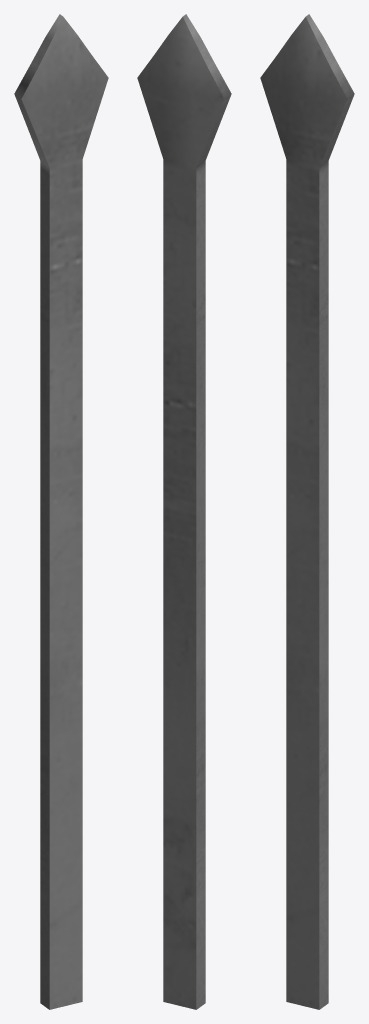
The model's file is fireGrill.fbx.
The picture shows the model from 3 angles, left to right: view 1: azimuth 30°, elevation 25°; view 2: azimuth 150°, elevation 25°; view 3: azimuth 330°, elevation 25°; orthographic projection.
Visible parts, largest first — view 1: pCube6; view 2: pCube6; view 3: pCube6.
Boxes of the visible parts, <box> form: pCube6: <box>14,14,108,1009</box>; pCube6: <box>137,14,231,1009</box>; pCube6: <box>260,14,354,1009</box>.
Bounding box in the file's own units: 5.11 × 55.22 × 1.41.
1 material, 1 textured.
